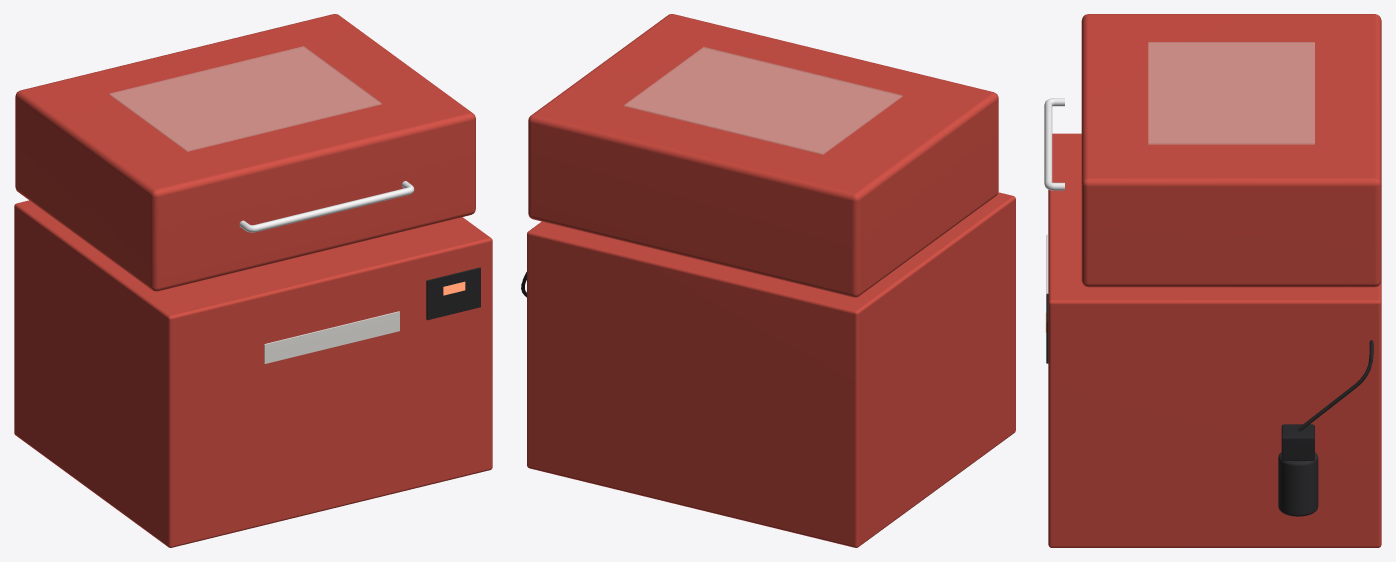
The model's file is washer_cabinet.glb.
The picture shows the model from 3 angles, left to right: view 1: azimuth 30°, elevation 25°; view 2: azimuth 150°, elevation 25°; view 3: azimuth 270°, elevation 25°; orthographic projection. The views are drawn at different scales.
Visible parts, largest first — view 1: SM_washer_cabinet; view 2: SM_washer_cabinet; view 3: SM_washer_cabinet.
Part boxes in pixels (x1=…): SM_washer_cabinet: x1=14, y1=14, x2=492, y2=547; SM_washer_cabinet: x1=521, y1=14, x2=1015, y2=547; SM_washer_cabinet: x1=1044, y1=14, x2=1381, y2=547.
Size of the model in its own units: 1.32 by 1.23 by 1.01.
